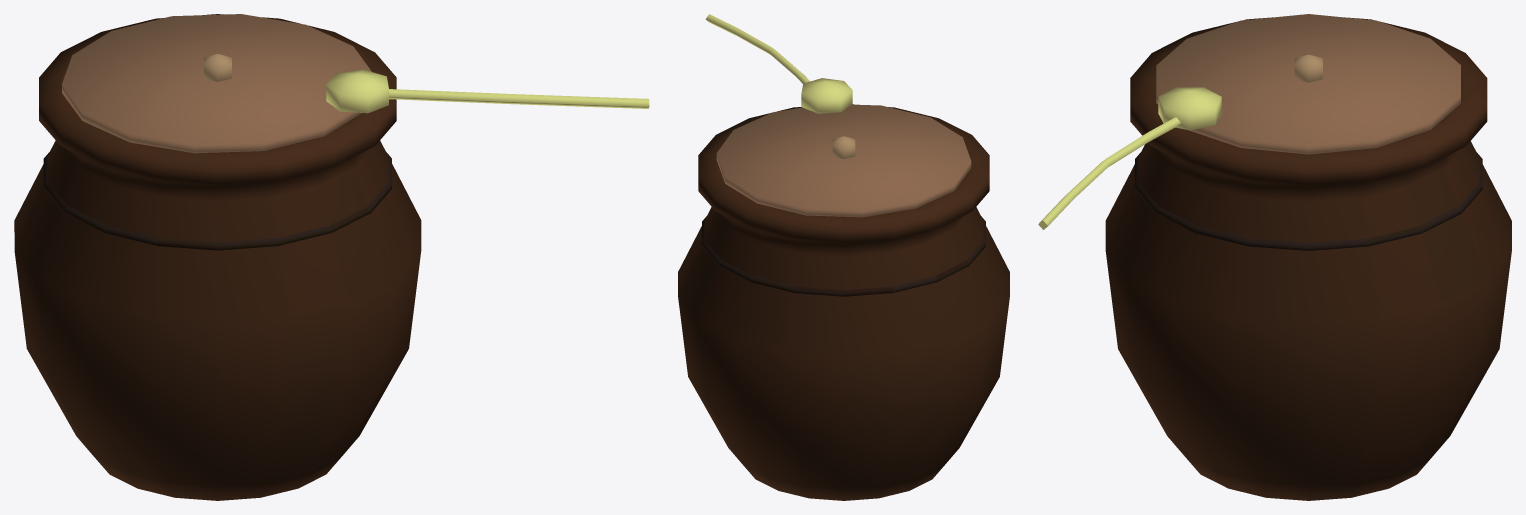
File: prop_tc_lu_nuoc.fe4a01a928.glb
3 views of the same model, side by side, from view 1: azimuth 30°, elevation 25°; view 2: azimuth 150°, elevation 25°; view 3: azimuth 270°, elevation 25° (orthographic). The views are drawn at different scales.
Parts seen in each view (by area): view 1: prop_tc_lu_nuoc; view 2: prop_tc_lu_nuoc; view 3: prop_tc_lu_nuoc.
Part boxes in pixels (x1,y1,x2,y2): prop_tc_lu_nuoc: (14,14,649,500); prop_tc_lu_nuoc: (678,14,1009,500); prop_tc_lu_nuoc: (1038,14,1511,500).
Size of what is drawn, in the model's own units: 1.77 by 1.4 by 1.52.
